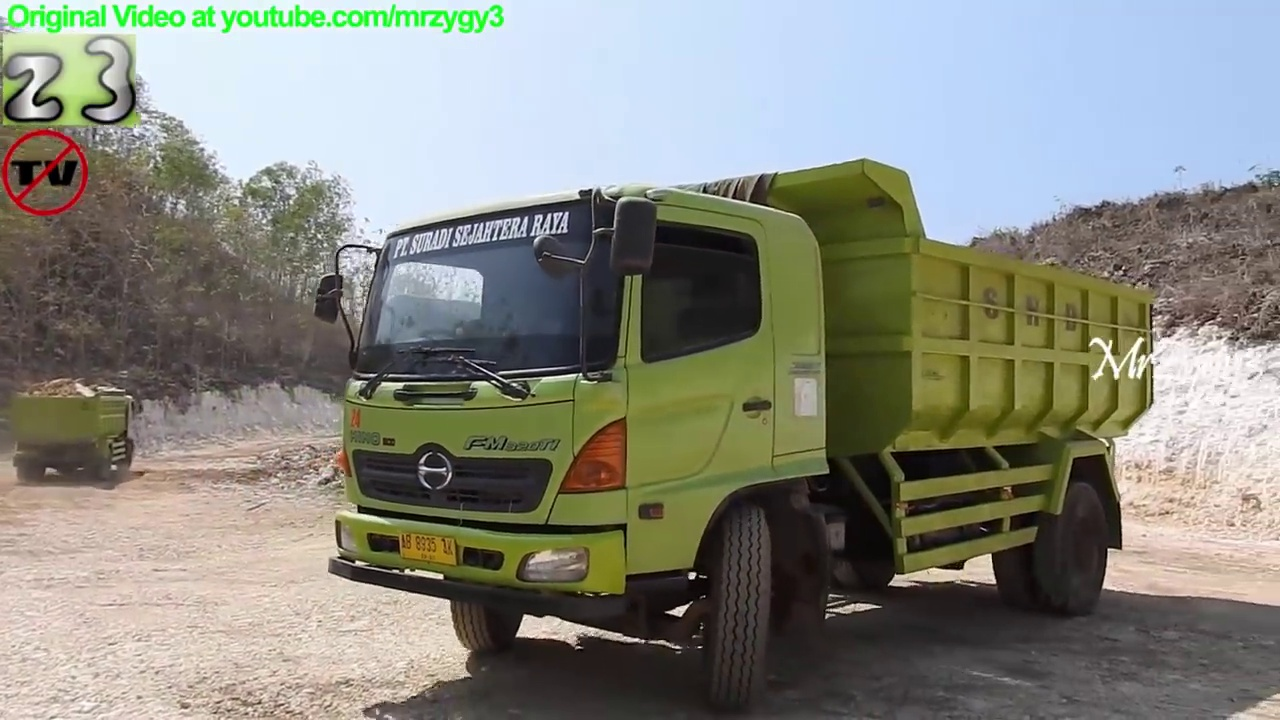truck: (306, 150, 1165, 720), (7, 382, 144, 488)
